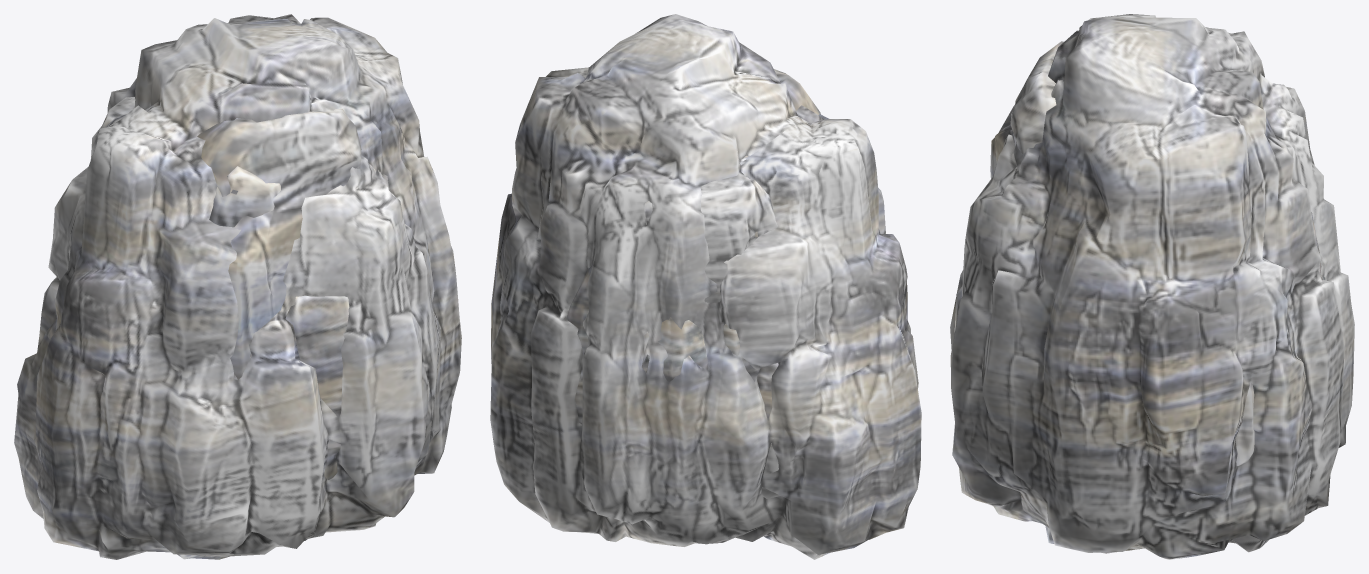
Rendered from WhiteStonesSmall.FBX.
3 renders of one model, left to right at view 1: azimuth 30°, elevation 25°; view 2: azimuth 150°, elevation 25°; view 3: azimuth 270°, elevation 25°, orthographic. The views are drawn at different scales.
Parts seen in each view (by area): view 1: WhiteRockSmall1_copy000, WhiteRockSmall3_copy000, WhiteRockSmall2_copy000; view 2: WhiteRockSmall1_copy000, WhiteRockSmall2_copy000, WhiteRockSmall3_copy000; view 3: WhiteRockSmall1_copy000, WhiteRockSmall3_copy000, WhiteRockSmall2_copy000.
Part boxes in pixels (x1,y1,x2,y2): WhiteRockSmall1_copy000: (14,14,461,559); WhiteRockSmall3_copy000: (197,109,361,379); WhiteRockSmall2_copy000: (91,97,358,479); WhiteRockSmall1_copy000: (490,14,921,559); WhiteRockSmall2_copy000: (567,155,780,498); WhiteRockSmall3_copy000: (754,69,820,237); WhiteRockSmall1_copy000: (950,14,1354,559); WhiteRockSmall3_copy000: (990,41,1063,178); WhiteRockSmall2_copy000: (1015,88,1324,465).
Bounding box in the file's own units: 197 × 220 × 163.
